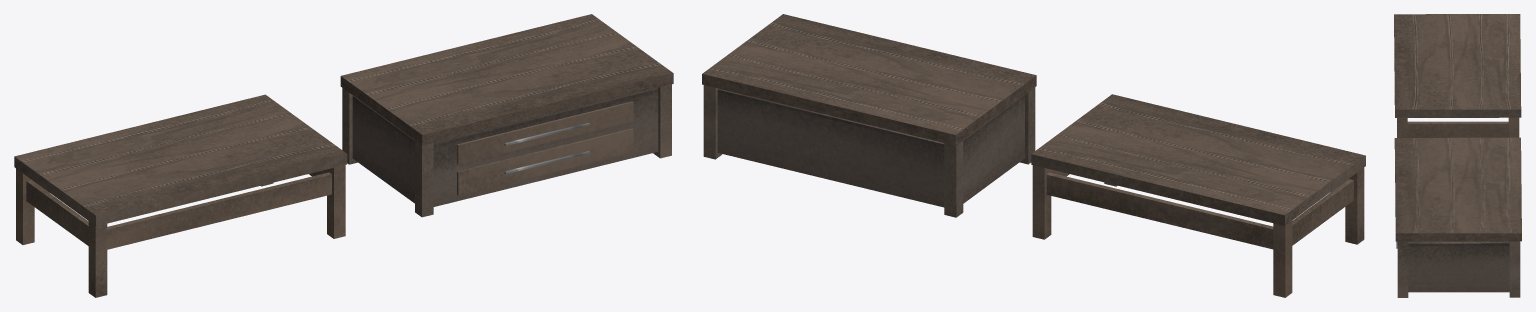
The model's file is Tables.fbx.
The picture shows the model from 3 angles, left to right: view 1: azimuth 30°, elevation 25°; view 2: azimuth 150°, elevation 25°; view 3: azimuth 270°, elevation 25°; orthographic projection. The views are drawn at different scales.
Visible parts, largest first — view 1: Tv_Table_Stand_Top, Coffee_Table_Top, Tv_Table_Stand, Tv_Table_Stand_Block, Coffee_Table_Plank_Front, Coffee_Table, Coffee_Table_Plank_Left; view 2: Coffee_Table_Top, Tv_Table_Stand_Top, Tv_Table_Stand_Block, Coffee_Table_Plank_Back, Coffee_Table, Tv_Table_Stand, Coffee_Table_Plank_Left; view 3: Tv_Table_Stand_Top, Coffee_Table_Top, Tv_Table_Stand_Block, Coffee_Table_Plank_Right, Tv_Table_Stand, Coffee_Table.
Part boxes in pixels (x1,y1,x2,y2): Tv_Table_Stand_Top: [340, 14, 673, 145]; Coffee_Table_Top: [14, 94, 347, 226]; Tv_Table_Stand: [342, 84, 671, 217]; Tv_Table_Stand_Block: [352, 88, 658, 206]; Coffee_Table_Plank_Front: [107, 172, 331, 249]; Coffee_Table: [16, 165, 345, 297]; Coffee_Table_Plank_Left: [26, 180, 88, 245]; Coffee_Table_Top: [1031, 94, 1365, 225]; Tv_Table_Stand_Top: [702, 14, 1036, 145]; Tv_Table_Stand_Block: [717, 88, 1024, 207]; Coffee_Table_Plank_Back: [1046, 172, 1273, 249]; Coffee_Table: [1032, 165, 1364, 297]; Tv_Table_Stand: [703, 85, 1035, 217]; Coffee_Table_Plank_Left: [1292, 179, 1353, 245]; Tv_Table_Stand_Top: [1394, 137, 1521, 241]; Coffee_Table_Top: [1394, 14, 1521, 117]; Tv_Table_Stand_Block: [1408, 241, 1509, 292]; Coffee_Table_Plank_Right: [1407, 121, 1508, 137]; Tv_Table_Stand: [1396, 241, 1520, 297]; Coffee_Table: [1397, 117, 1519, 137].
Size of the model in its own units: 686 by 94.53 by 169.
